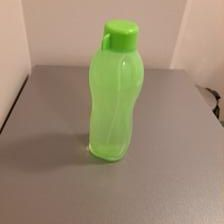bottle: (86, 18, 147, 161)
